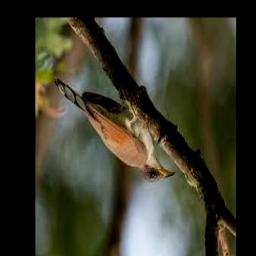Cuckoo: (55, 78, 176, 183)
